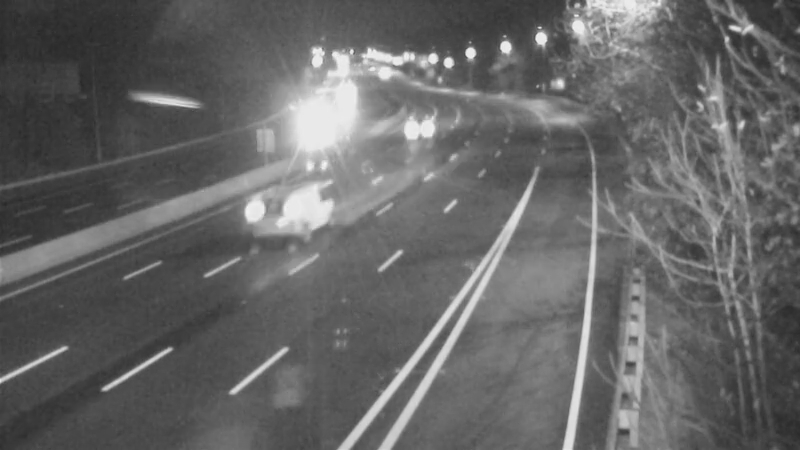vehicle: (241, 176, 321, 256), (397, 102, 447, 152), (298, 108, 348, 158)
